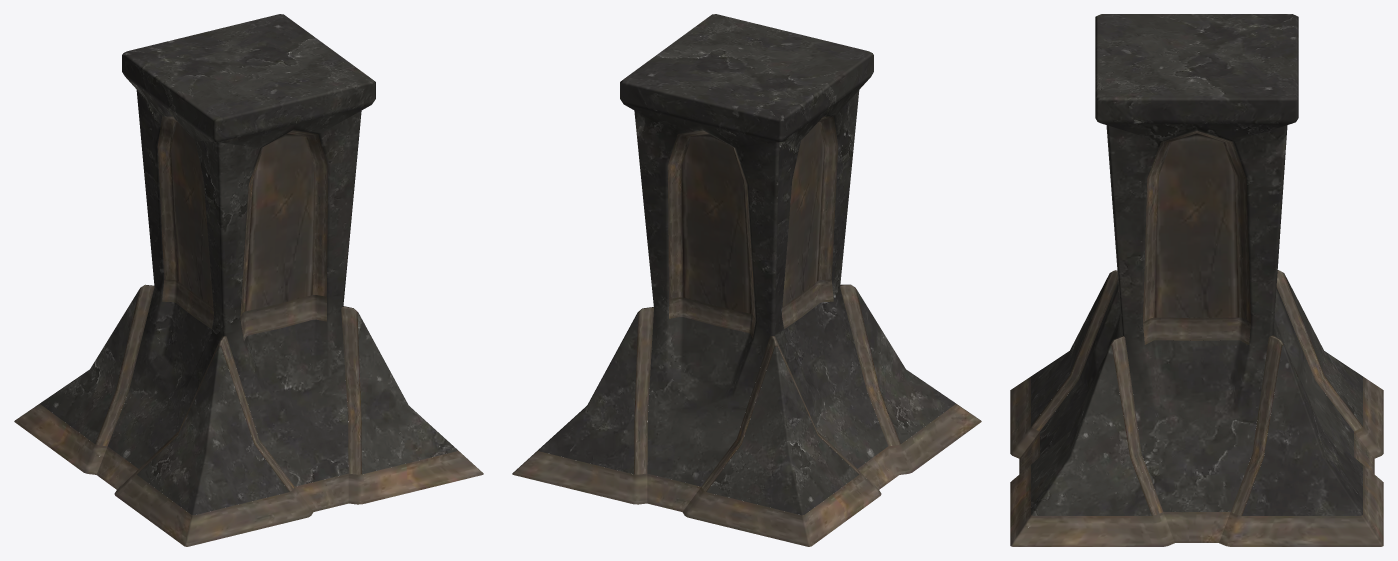
3 views of the same model, side by side, from view 1: azimuth 30°, elevation 25°; view 2: azimuth 150°, elevation 25°; view 3: azimuth 270°, elevation 25° (orthographic). The views are drawn at different scales.
Visible parts, largest first — view 1: SM_Dowdun_Pillar_A_01_LOD0; view 2: SM_Dowdun_Pillar_A_01_LOD0; view 3: SM_Dowdun_Pillar_A_01_LOD0.
Boxes of the visible parts, x1,y1,x2,y2 form: SM_Dowdun_Pillar_A_01_LOD0: (14, 14, 483, 546); SM_Dowdun_Pillar_A_01_LOD0: (512, 14, 981, 546); SM_Dowdun_Pillar_A_01_LOD0: (1010, 14, 1383, 546).
Size of the model in its own units: 1.64 by 2 by 1.64.
Materials: 2 (2 with a texture image).
